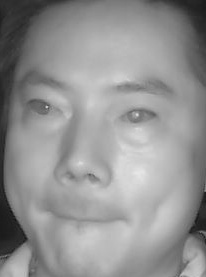eye: (116, 103, 159, 130), (23, 94, 65, 121)
mouth: (46, 196, 126, 240)
